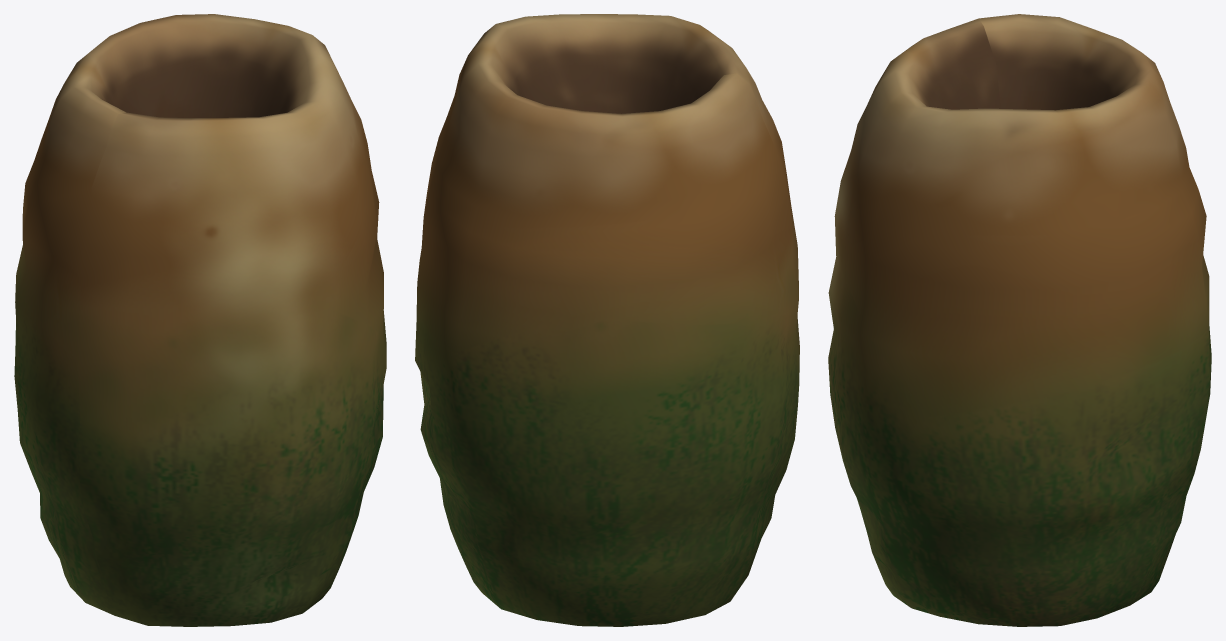
Rendered from Plant1.fbx.
3 renders of one model, left to right at view 1: azimuth 30°, elevation 25°; view 2: azimuth 150°, elevation 25°; view 3: azimuth 270°, elevation 25°, orthographic. The views are drawn at different scales.
Visible parts, largest first — view 1: Plant1fn; view 2: Plant1fn; view 3: Plant1fn.
Part boxes in pixels (x1,y1,x2,y2): Plant1fn: (14,14,386,626); Plant1fn: (415,14,799,626); Plant1fn: (828,14,1211,626).
Size of the model in its own units: 0.2381 by 0.3525 by 0.236.
1 material, 1 textured.
